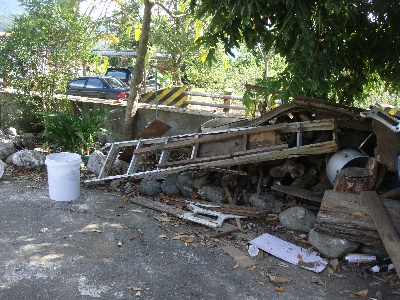bowl: (325, 148, 369, 185)
bucket: (44, 149, 84, 203)
